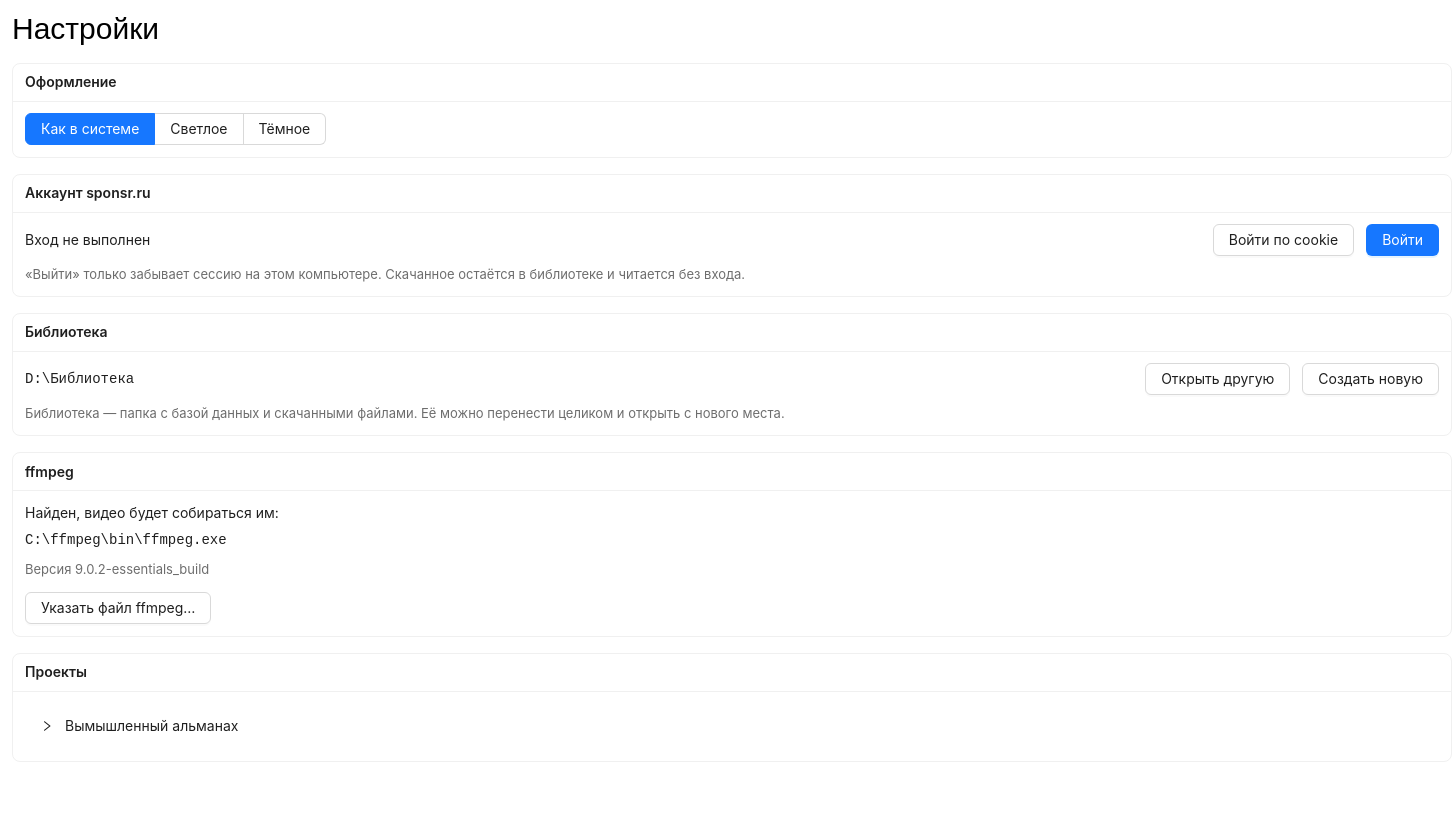
Test: SettingsView › ffmpeg › says so when the file pointed at is not an ffmpeg
This screenshot has width=1452, height=822.
Click the button "Указать файл ffmpeg…": (118, 608) [25,592,211,624]
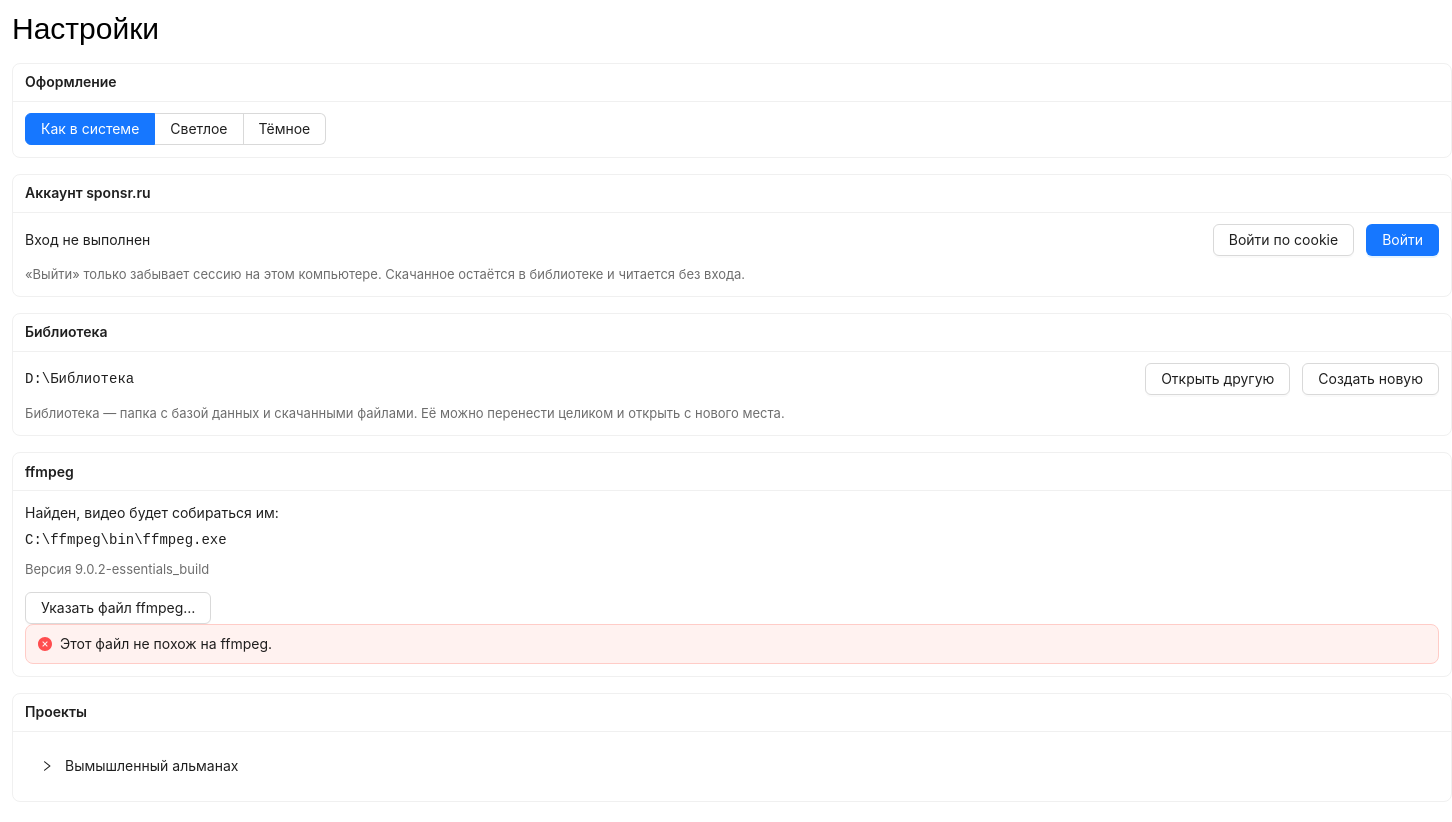
Expected: the text "C:\\ffmpeg\\bin\\ffmpeg.exe" is shown, [25,532,227,548]
Result: the text "Этот файл не похож на ffmpeg" is shown at [60,635,272,652]
